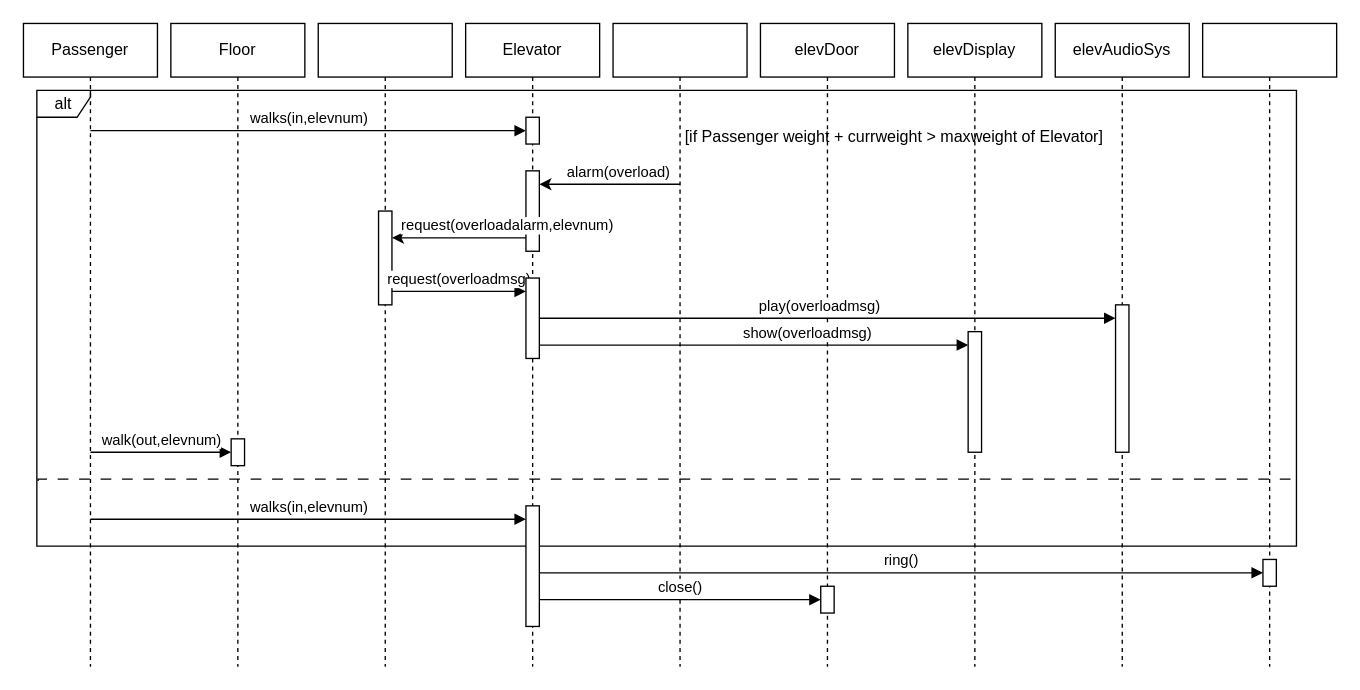
The diagram is 1360 pixels wide and 690 high, and some of its shapes have lost their labels. Each missing label, with the box of its shape:
ECS: (317, 22, 452, 667)
elevBell: (1201, 22, 1337, 667)
elevSensor: (612, 22, 747, 667)
